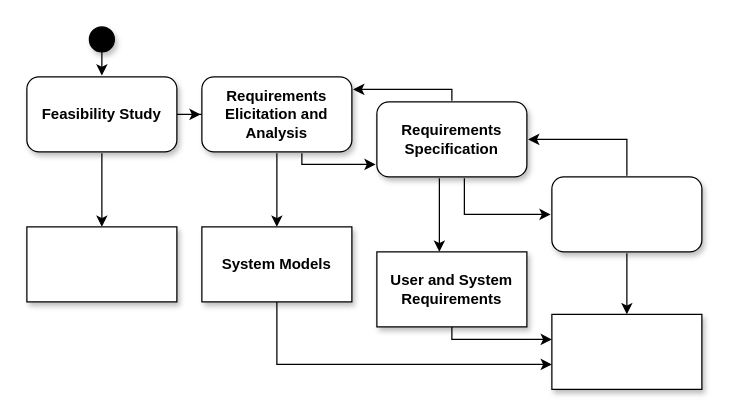
The diagram is 731 pixels wide and 420 high, and some of its shapes have lost their labels. The centre of each missing label's shape, as x and y in pixels:
"Feasibility Report" goes at point 102,266.
"Requirements Document" goes at point 627,353.
"Requirements Validation" goes at point 627,216.
